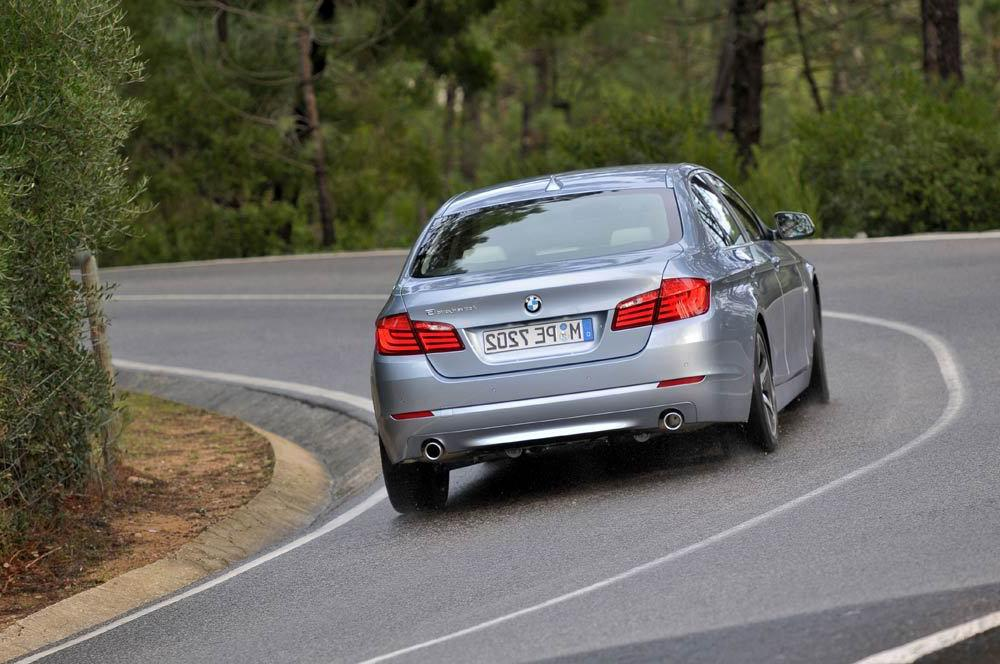Car: (315, 125, 884, 539)
